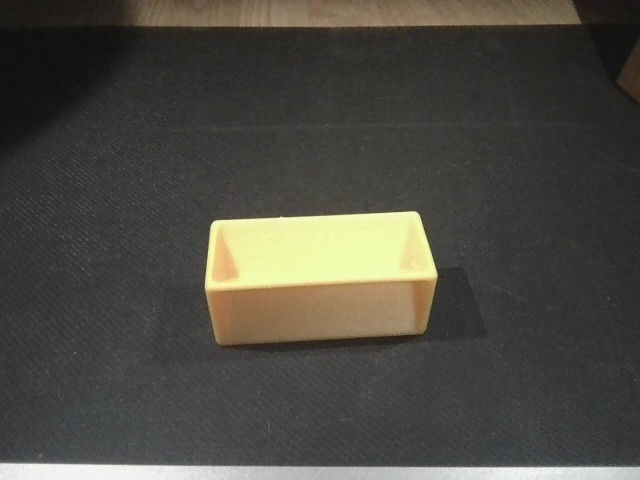YellowSample: (203, 205, 436, 355)
